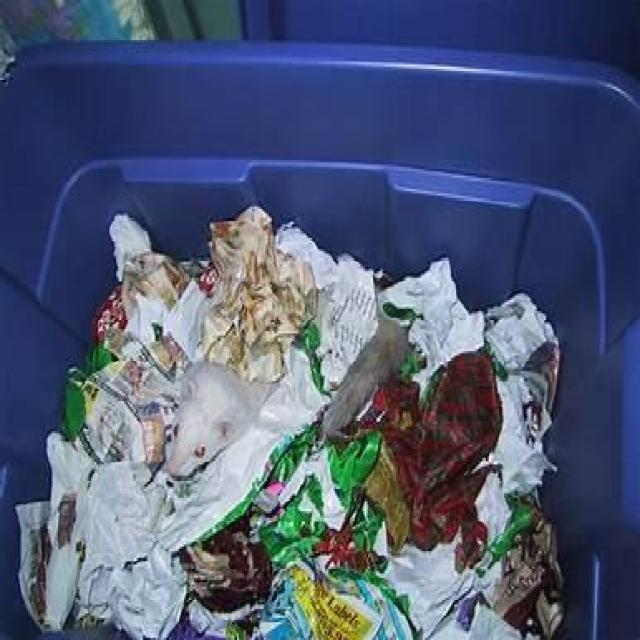Garbage: (38, 206, 560, 638), (492, 506, 564, 629), (18, 502, 50, 626), (536, 590, 564, 639)
